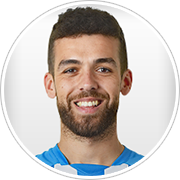face: (41, 45, 135, 135)
